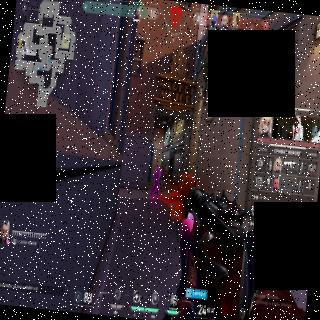ENEMY-BODY: (148, 162, 162, 209)
ENEMY-HEAD: (156, 163, 158, 170)
